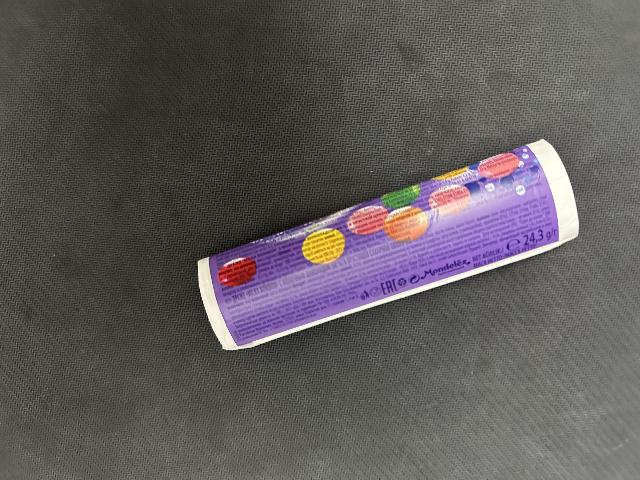Kagit: (197, 137, 582, 352)
